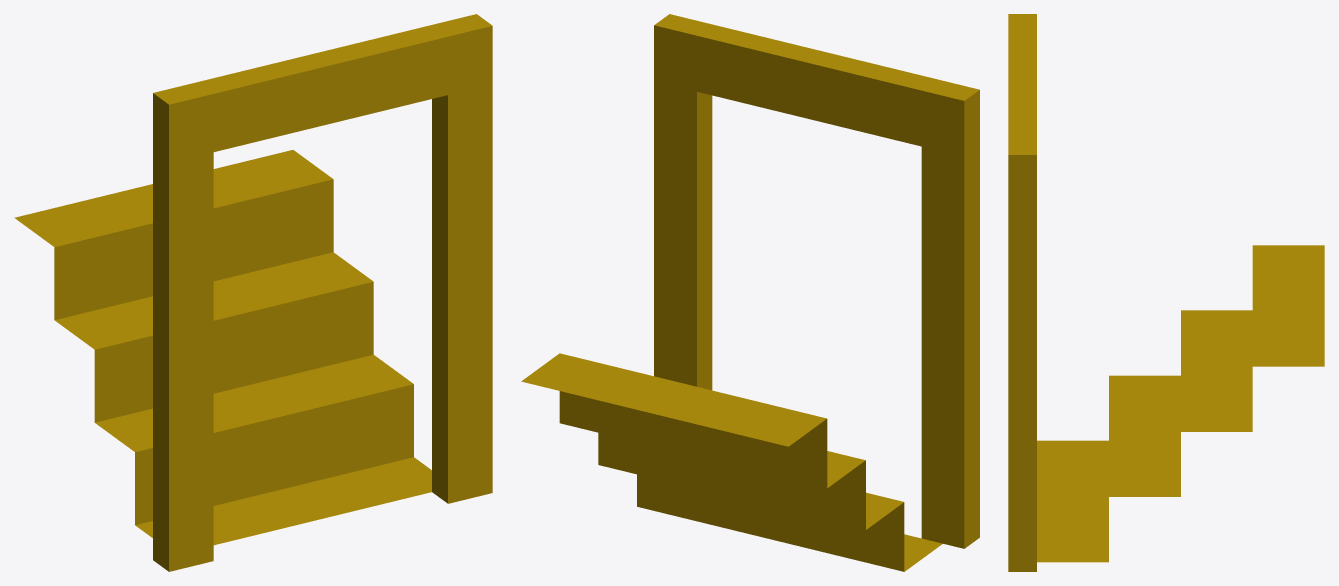
Rendered from stair.FBX.
3 views of the same model, side by side, from view 1: azimuth 30°, elevation 25°; view 2: azimuth 150°, elevation 25°; view 3: azimuth 270°, elevation 25° (orthographic). The views are drawn at different scales.
Parts seen in each view (by area): view 1: Stair, Stair Gate; view 2: Stair Gate, Stair; view 3: Stair, Stair Gate.
Part boxes in pixels (x1,y1,x2,y2): Stair: (14,150,431,545); Stair Gate: (153,14,492,571); Stair Gate: (654,14,979,548); Stair: (521,353,942,571); Stair: (1037,245,1324,562); Stair Gate: (1008,14,1036,571).
Size of the model in its own units: 11.6 by 16 by 11.
